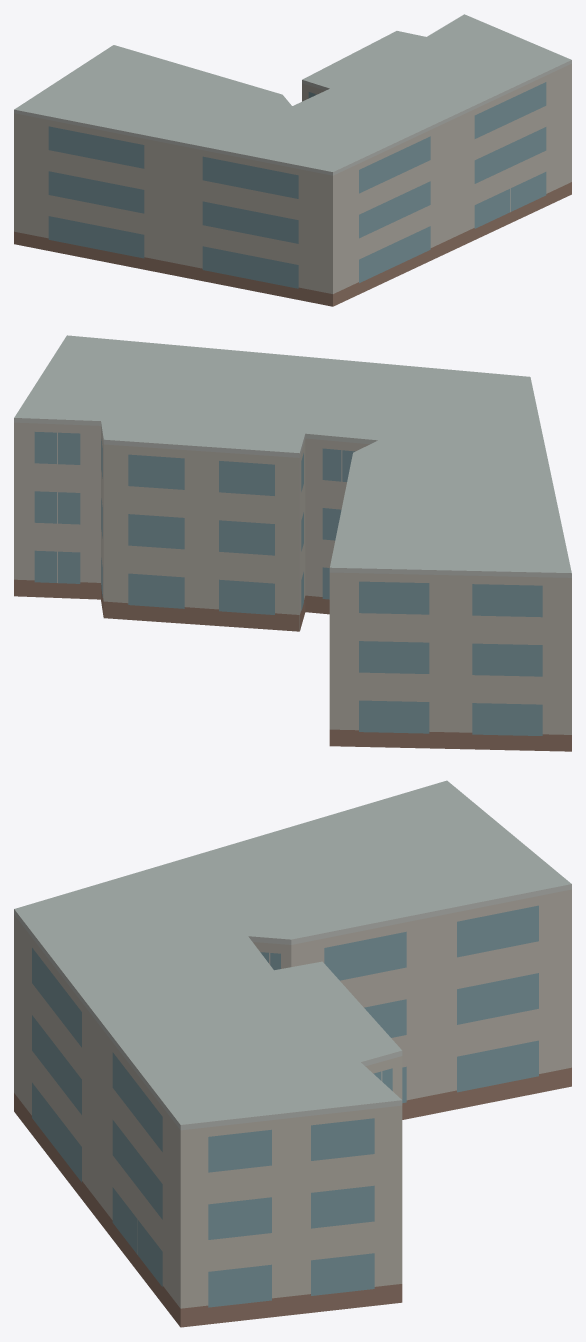
Rendered from survey-upis-32894719.glb.
3 renders of one model, top to bottom at view 1: azimuth 30°, elevation 25°; view 2: azimuth 150°, elevation 25°; view 3: azimuth 270°, elevation 25°, orthographic. The views are drawn at different scales.
Visible parts, largest first — view 1: survey-upis-32894719.tmp; view 2: survey-upis-32894719.tmp; view 3: survey-upis-32894719.tmp.
Part boxes in pixels (x1=…): survey-upis-32894719.tmp: x1=14, y1=14, x2=571, y2=306; survey-upis-32894719.tmp: x1=14, y1=335, x2=571, y2=751; survey-upis-32894719.tmp: x1=14, y1=780, x2=571, y2=1327.
Size of the model in its own units: 33.41 by 9.15 by 22.86.
